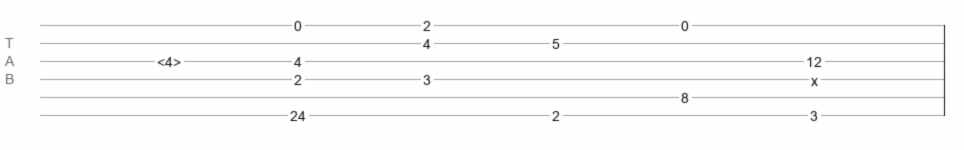0: (294, 18, 302, 28), (681, 18, 689, 28)
12: (806, 54, 822, 64)
2: (294, 72, 302, 82), (423, 18, 431, 28), (552, 108, 560, 118)
24: (290, 108, 306, 118)
3: (423, 72, 431, 82), (810, 108, 818, 118)
4: (294, 54, 302, 64), (423, 36, 431, 46)
5: (552, 36, 560, 46)
8: (681, 90, 689, 100)
harmonic: (157, 54, 181, 64)
x: (811, 73, 818, 81)
